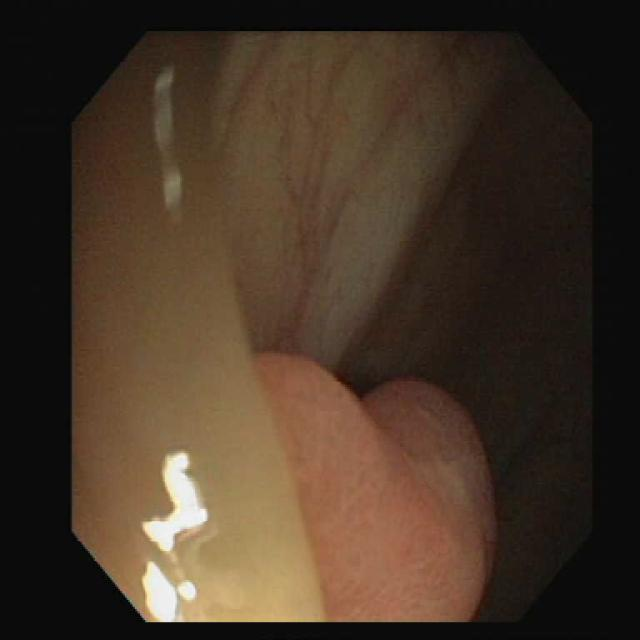tumor: (257, 356, 495, 620)
